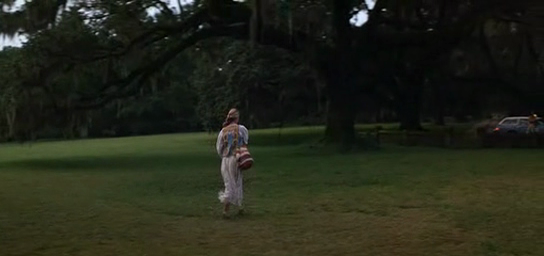els: (1, 1, 544, 256)
face: (231, 112, 239, 123)
person: (216, 107, 254, 217)
